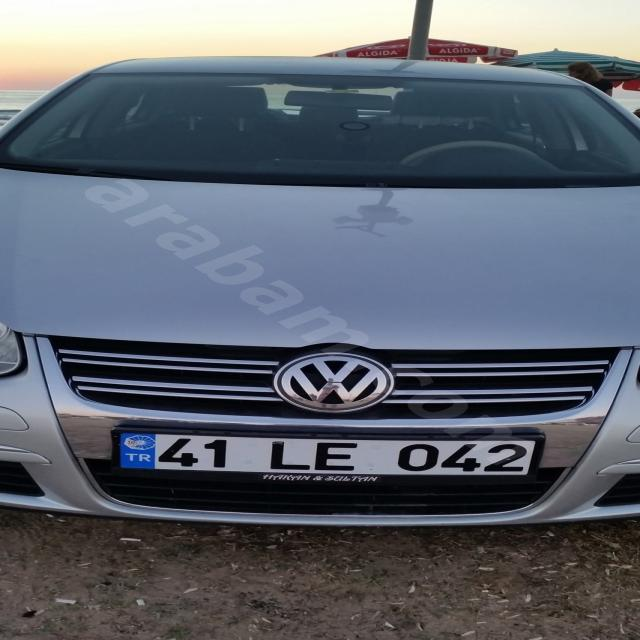license_plate: (114, 431, 537, 476)
